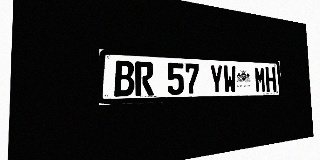5: (167, 62, 184, 95)
7: (184, 63, 200, 95)
B: (114, 60, 134, 97)
H: (265, 67, 276, 92)
M: (254, 66, 266, 92)
R: (135, 61, 154, 96)
W: (223, 65, 236, 93)
Y: (209, 64, 223, 94)
